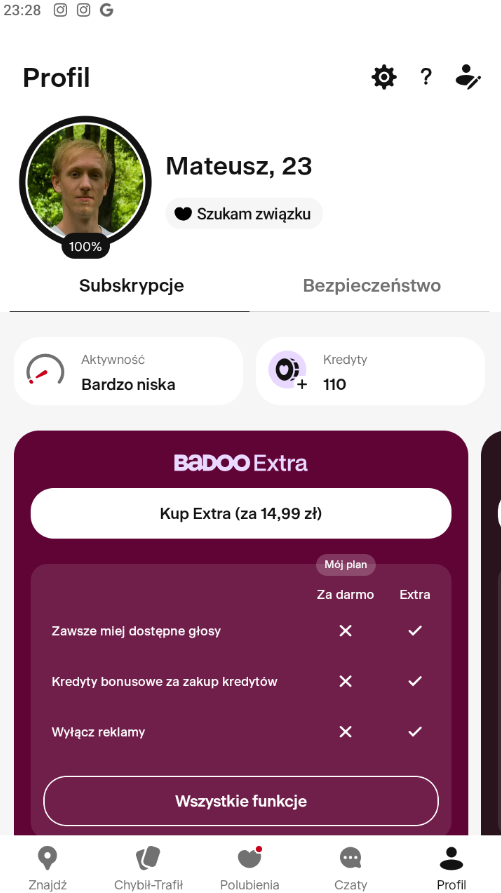kupno_button: (32, 488, 450, 541), (52, 772, 438, 828)
